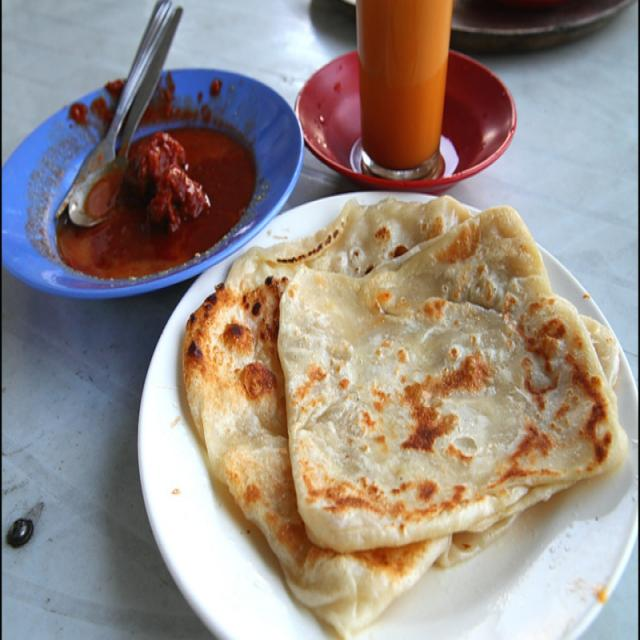Paratha: (199, 215, 532, 574), (296, 264, 640, 520)
